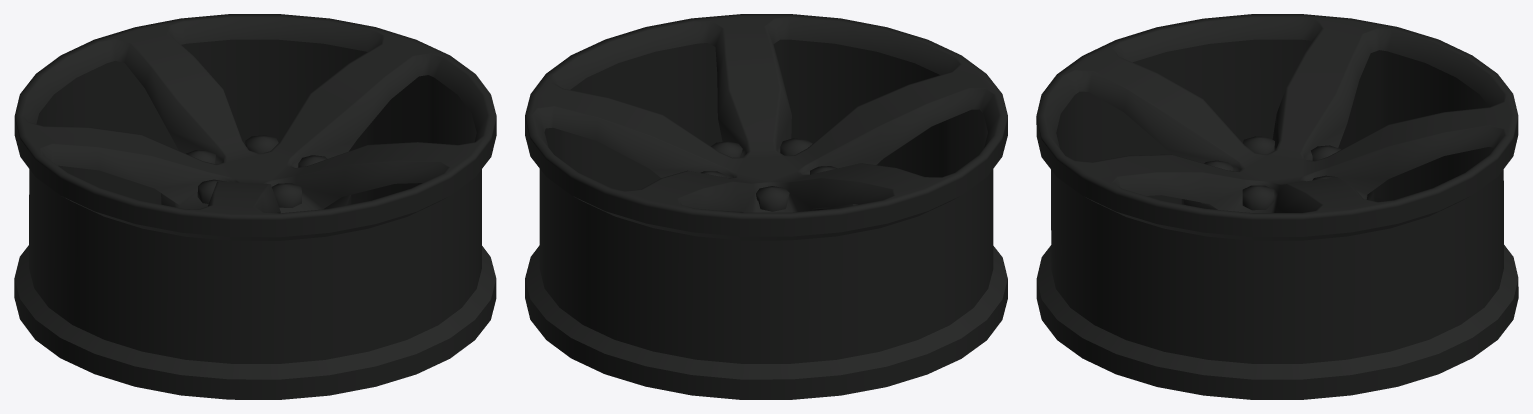
The model's file is Rim_C.fbx.
The picture shows the model from 3 angles, left to right: view 1: azimuth 30°, elevation 25°; view 2: azimuth 150°, elevation 25°; view 3: azimuth 270°, elevation 25°; orthographic projection.
Parts seen in each view (by area): view 1: Rim_C; view 2: Rim_C; view 3: Rim_C.
Part boxes in pixels (x1,y1,x2,y2): Rim_C: [14, 14, 496, 399]; Rim_C: [525, 14, 1007, 399]; Rim_C: [1036, 14, 1518, 399].
Size of the model in its own units: 0.4862 by 0.2054 by 0.4883.
